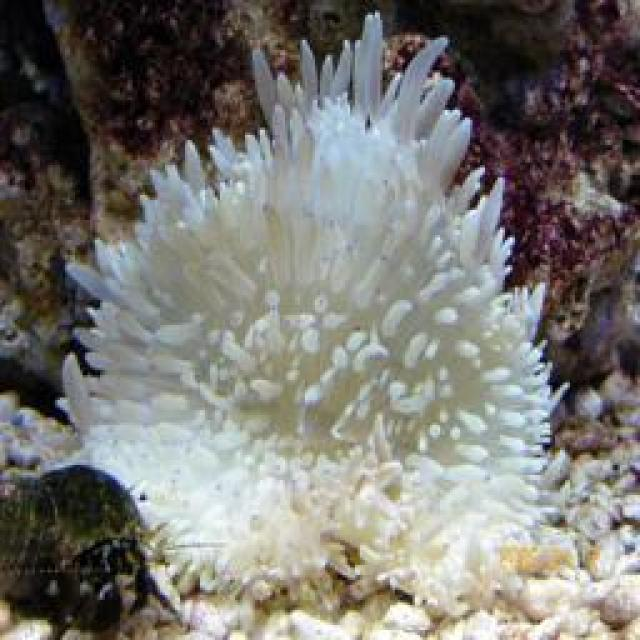reefs: (0, 9, 575, 628)
